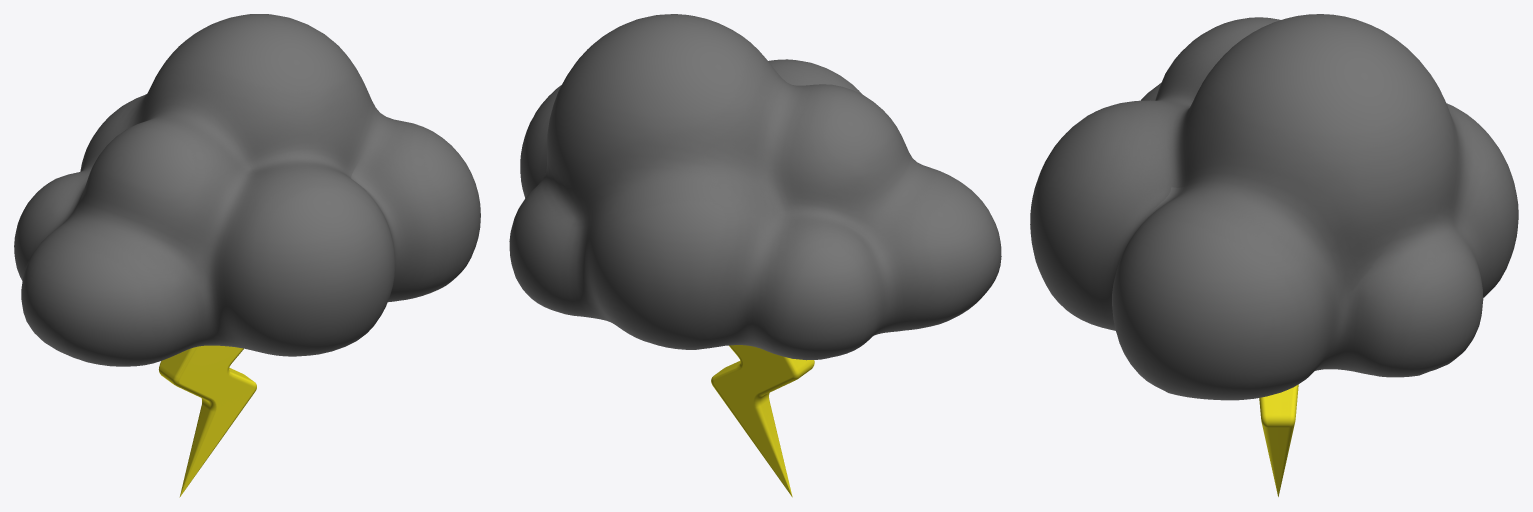
Rendered from lightning.glb.
3 renders of one model, left to right at view 1: azimuth 30°, elevation 25°; view 2: azimuth 150°, elevation 25°; view 3: azimuth 270°, elevation 25°, orthographic. The views are drawn at different scales.
Visible parts, largest first — view 1: lightning.1; view 2: lightning.1; view 3: lightning.1.
Part boxes in pixels (box(x1,y1,x2,y2)): lightning.1: box(14, 14, 480, 497); lightning.1: box(509, 14, 1001, 497); lightning.1: box(1030, 14, 1518, 496).
Bounding box in the file's own units: 0.1647 × 0.1591 × 0.1336.
Materials: 1 (1 with a texture image).
